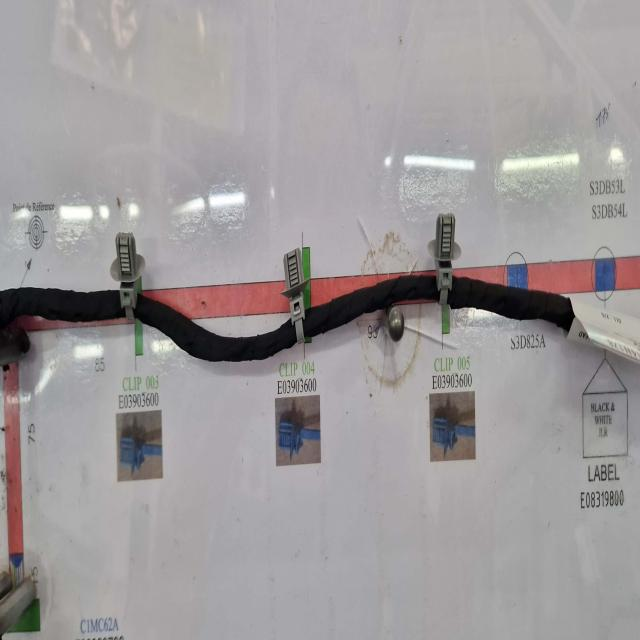Clip: (111, 232, 146, 322), (428, 209, 460, 301), (283, 248, 312, 344)
Info: (564, 288, 640, 359)
MHEV_N11_Cable: (133, 296, 295, 364), (304, 275, 441, 340), (452, 272, 579, 330), (0, 287, 125, 331)
